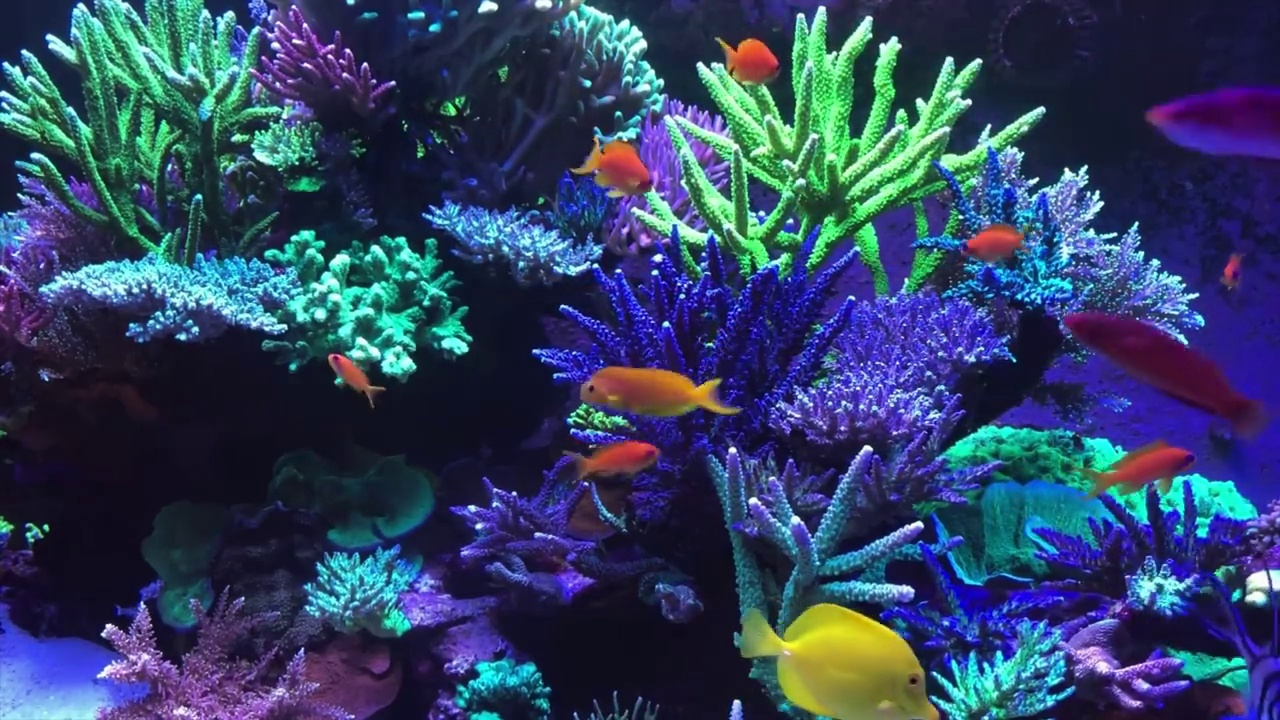fish: (1065, 311, 1266, 441), (735, 601, 941, 720), (1143, 84, 1280, 161), (577, 365, 742, 417), (1085, 439, 1198, 496), (568, 136, 654, 198), (563, 442, 663, 481), (712, 33, 780, 90), (327, 353, 387, 408), (958, 225, 1030, 264), (1217, 251, 1246, 291)
